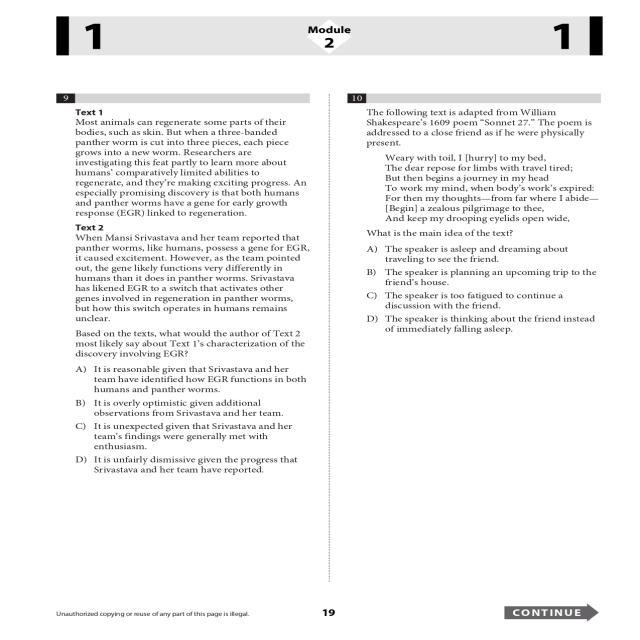Answer_Block: (338, 240, 614, 578), (46, 363, 322, 580)
Question_Answer_Block: (46, 91, 322, 580), (338, 90, 614, 578)
Question_Block: (46, 91, 322, 362), (338, 91, 614, 239)
Question_Paper_Area: (46, 91, 322, 580), (338, 90, 614, 578)
